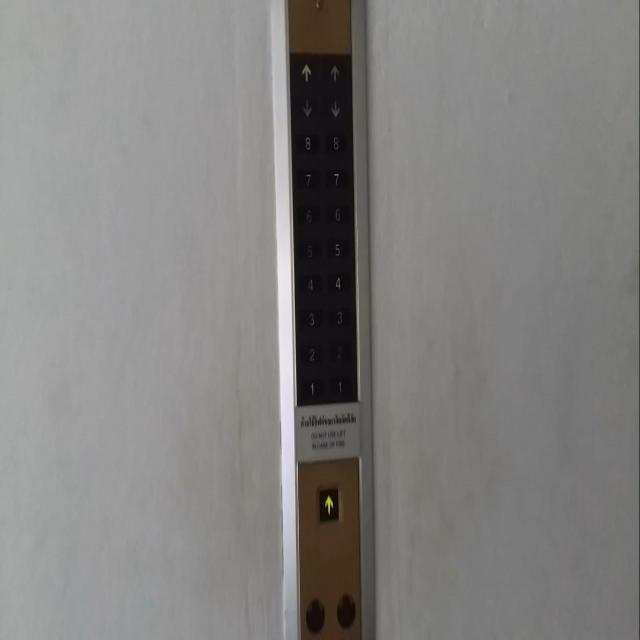1: (327, 375, 353, 397), (300, 376, 326, 397)
2: (326, 342, 351, 363), (299, 344, 324, 364)
3: (298, 308, 323, 328), (326, 308, 351, 328)
4: (325, 272, 351, 294), (297, 272, 322, 294)
5: (297, 238, 322, 260), (325, 238, 350, 260)
6: (323, 204, 349, 225), (296, 204, 321, 225)
7: (295, 167, 320, 190), (324, 167, 348, 190)
8: (295, 130, 320, 154), (323, 130, 348, 154)
down: (294, 94, 319, 118), (322, 95, 348, 118)
empty: (305, 597, 325, 634), (336, 592, 356, 629)
up: (316, 483, 342, 524), (322, 60, 348, 83), (293, 60, 319, 83)
